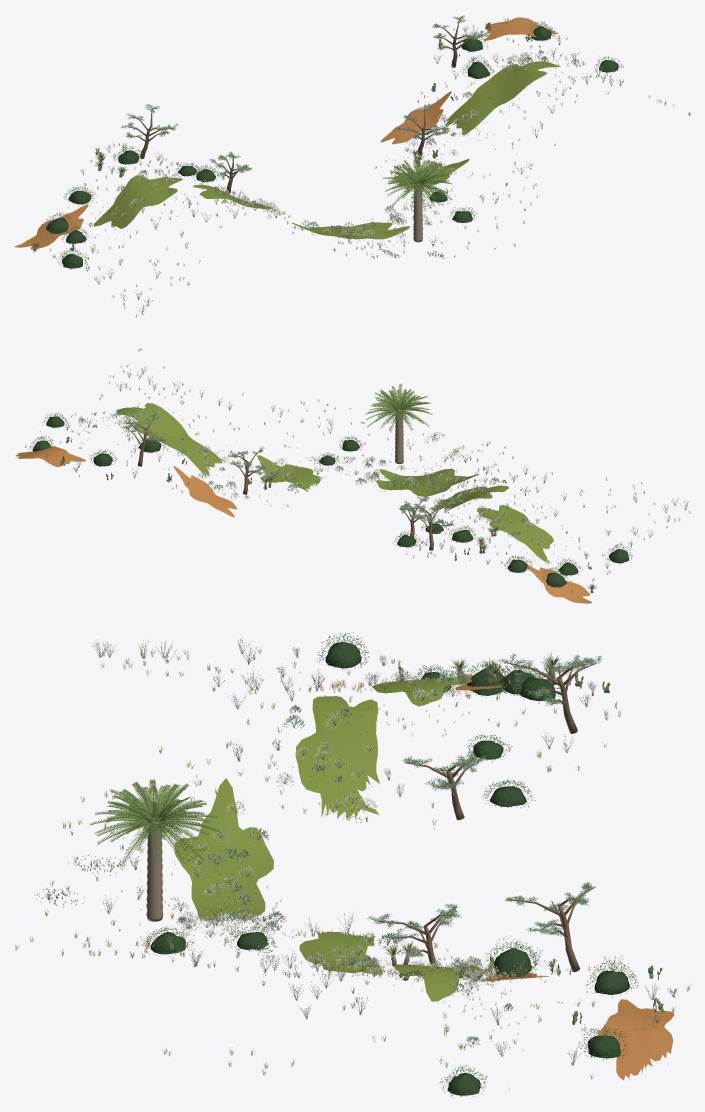
The model's file is flora.glb.
3 renders of one model, top to bottom at view 1: azimuth 30°, elevation 25°; view 2: azimuth 150°, elevation 25°; view 3: azimuth 270°, elevation 25°, orthographic. The views are drawn at different scales.
Visible parts, largest first — view 1: core_flora_iceplant, core_flora_lemonade_berry_shade, core_flora_red_iceplant, core_flora_palm_fronds, core_flora_sage, core_flora_lemonade_berry, core_flora_torrey_needles, core_flora_torrey_bark, core_flora_wild_oats, core_flora_stems, core_flora_dark_sage, core_flora_sagebrush (+2 smaller); view 2: core_flora_iceplant, core_flora_red_iceplant, core_flora_lemonade_berry_shade, core_flora_palm_fronds, core_flora_sage, core_flora_lemonade_berry, core_flora_torrey_needles, core_flora_stems, core_flora_dark_sage, core_flora_torrey_bark, core_flora_wild_oats, core_flora_sagebrush (+2 smaller); view 3: core_flora_iceplant, core_flora_lemonade_berry_shade, core_flora_palm_fronds, core_flora_sage, core_flora_lemonade_berry, core_flora_red_iceplant, core_flora_stems, core_flora_torrey_needles, core_flora_wild_oats, core_flora_torrey_bark, core_flora_dark_sage, core_flora_sagebrush (+3 smaller).
Part boxes in pixels (box(x1,y1,x2,y2)): core_flora_iceplant: box(94, 61, 560, 239); core_flora_lemonade_berry_shade: box(46, 26, 618, 268); core_flora_red_iceplant: box(14, 17, 558, 249); core_flora_palm_fronds: box(382, 159, 451, 211); core_flora_sage: box(87, 52, 547, 238); core_flora_lemonade_berry: box(41, 21, 623, 270); core_flora_torrey_needles: box(120, 15, 491, 179); core_flora_torrey_bark: box(124, 18, 489, 193); core_flora_wild_oats: box(40, 19, 690, 317); core_flora_stems: box(53, 19, 623, 314); core_flora_dark_sage: box(116, 50, 579, 234); core_flora_sagebrush: box(60, 17, 623, 310); core_flora_iceplant: box(116, 402, 553, 561); core_flora_red_iceplant: box(15, 446, 591, 603); core_flora_lemonade_berry_shade: box(32, 416, 628, 587); core_flora_palm_fronds: box(365, 383, 432, 432); core_flora_sage: box(110, 410, 551, 565); core_flora_lemonade_berry: box(28, 412, 632, 587); core_flora_torrey_needles: box(120, 409, 454, 527); core_flora_stems: box(38, 368, 687, 578); core_flora_dark_sage: box(78, 409, 524, 537); core_flora_torrey_bark: box(123, 411, 452, 550); core_flora_wild_oats: box(25, 348, 690, 592); core_flora_sagebrush: box(41, 367, 688, 565); core_flora_iceplant: box(174, 678, 486, 1001); core_flora_lemonade_berry_shade: box(150, 641, 629, 1095); core_flora_palm_fronds: box(90, 779, 220, 867); core_flora_sage: box(171, 669, 509, 998); core_flora_lemonade_berry: box(141, 632, 638, 1097); core_flora_red_iceplant: box(455, 668, 674, 1080); core_flora_stems: box(92, 637, 676, 1082); core_flora_torrey_needles: box(367, 653, 602, 957); core_flora_wild_oats: box(14, 648, 690, 1079); core_flora_torrey_bark: box(371, 656, 598, 972); core_flora_dark_sage: box(176, 669, 513, 1046); core_flora_sagebrush: box(93, 639, 677, 1057).
Size of the model in its own units: 62.03 by 9.93 by 35.15.
